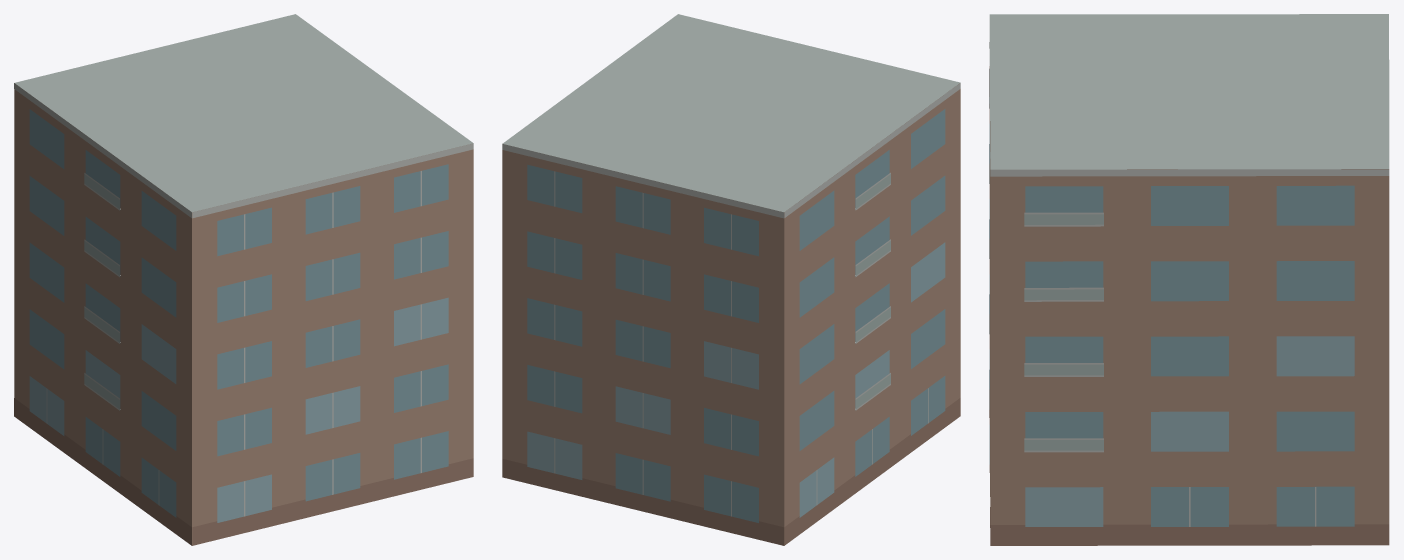
Rendered from survey-upis-32963210.glb.
3 renders of one model, left to right at view 1: azimuth 30°, elevation 25°; view 2: azimuth 150°, elevation 25°; view 3: azimuth 270°, elevation 25°, orthographic. The views are drawn at different scales.
Visible parts, largest first — view 1: survey-upis-32963210.tmp; view 2: survey-upis-32963210.tmp; view 3: survey-upis-32963210.tmp.
Part boxes in pixels (box(x1,y1,x2,y2)): survey-upis-32963210.tmp: box(14, 14, 473, 545); survey-upis-32963210.tmp: box(502, 14, 960, 545); survey-upis-32963210.tmp: box(989, 14, 1389, 545).
Bounding box in the file's own units: 11.86 × 13.3 × 12.83.
